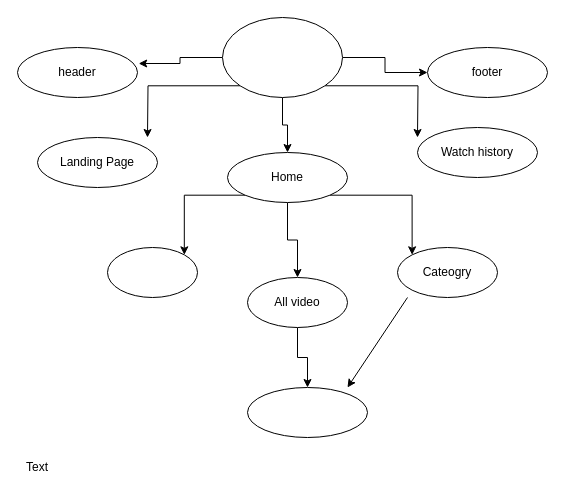
This 565x495 diagram has some shape labels left out. Here are the shapes that lost their labels. From the top down, the centre of each, then its label:
pixel 282 57: app
pixel 152 272: Add
pixel 307 412: Video card
